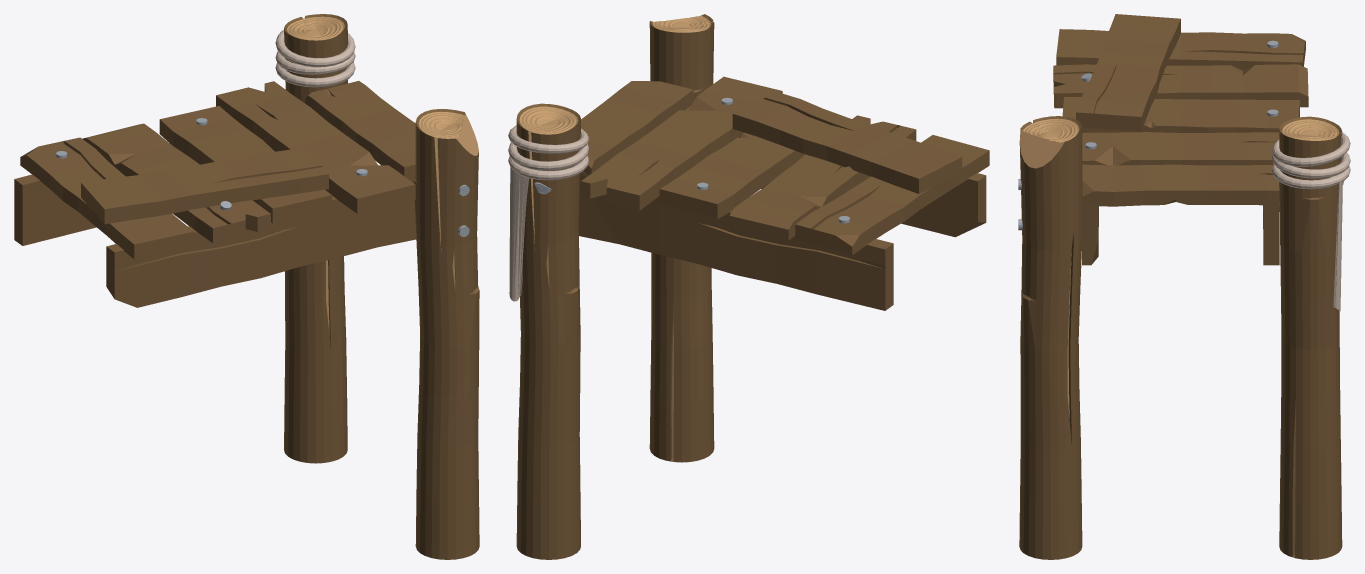
Rendered from Dock 4.fbx.
3 views of the same model, side by side, from view 1: azimuth 30°, elevation 25°; view 2: azimuth 150°, elevation 25°; view 3: azimuth 270°, elevation 25° (orthographic). The views are drawn at different scales.
Parts seen in each view (by area): view 1: Dock 4; view 2: Dock 4; view 3: Dock 4.
Part boxes in pixels (x1=…): Dock 4: x1=14, y1=14, x2=479, y2=559; Dock 4: x1=508, y1=14, x2=989, y2=559; Dock 4: x1=1018, y1=14, x2=1350, y2=559.
Bounding box in the file's own units: 3.75 × 4.33 × 3.11.
